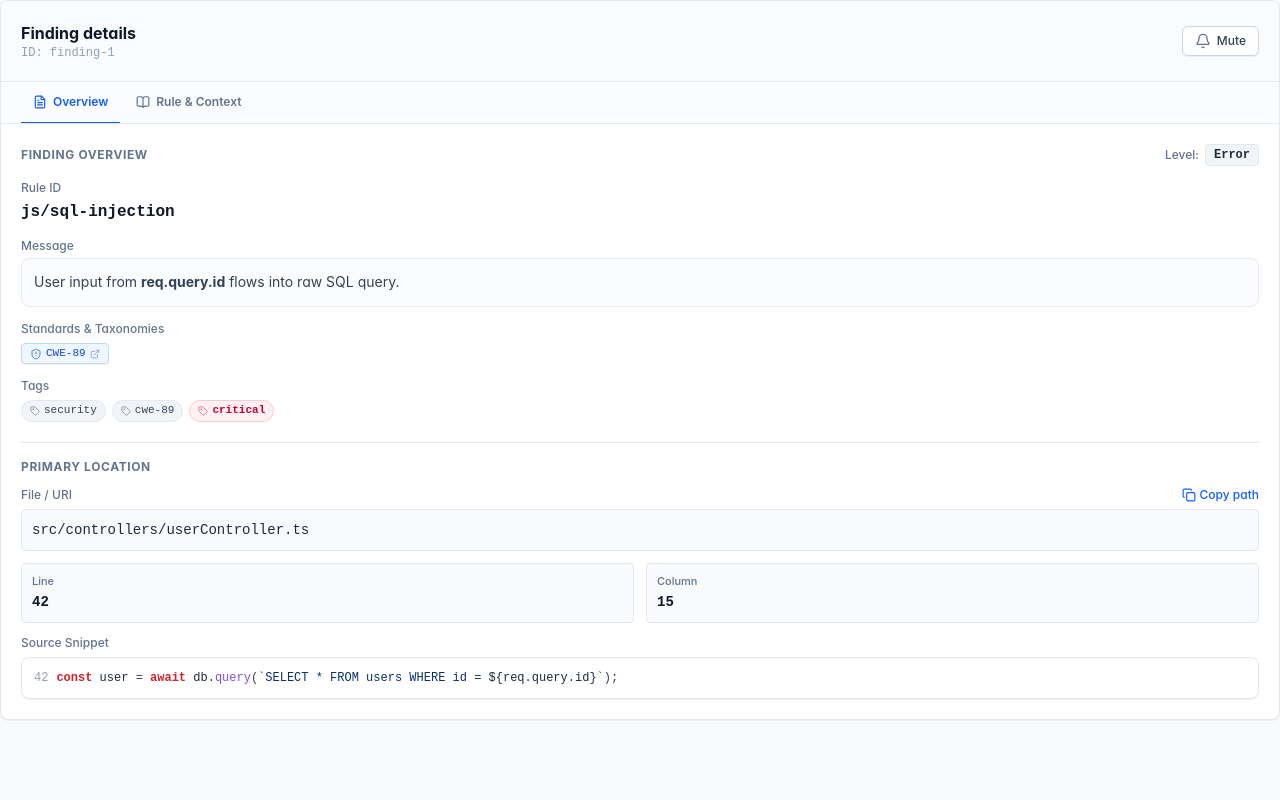
DetailsPanel Component › renders SonarQube HTML in Rule & Context tab with rich headings and lists
Switch to Rule & Context tab
Click the button "Rule & Context": [189, 103] box x1=124 y1=82 x2=253 y2=124
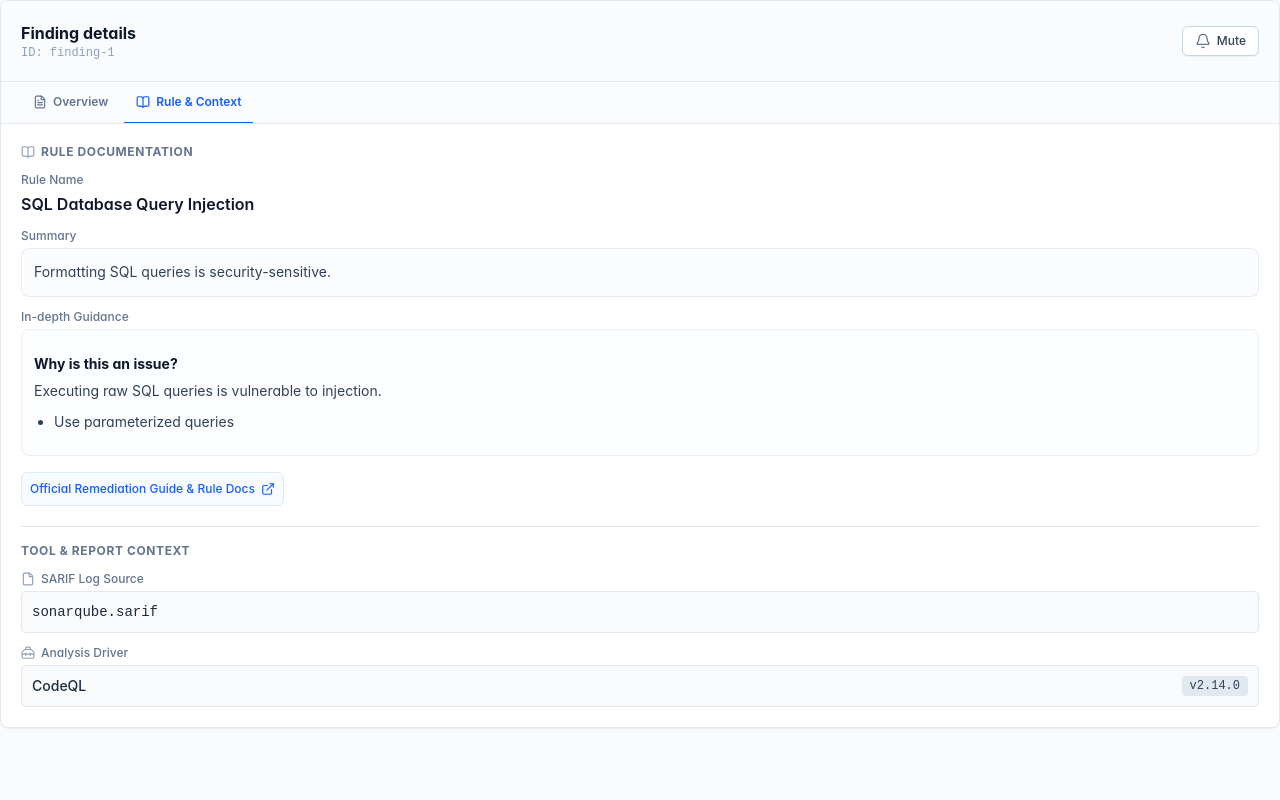
Now the heading "Why is this an issue?" is shown, box x1=34 y1=355 x2=178 y2=372
Now the text "Formatting SQL queries is security-sensitive." is shown, box x1=34 y1=263 x2=331 y2=280
Now the list item "Use parameterized queries" is shown, box x1=54 y1=412 x2=234 y2=430
